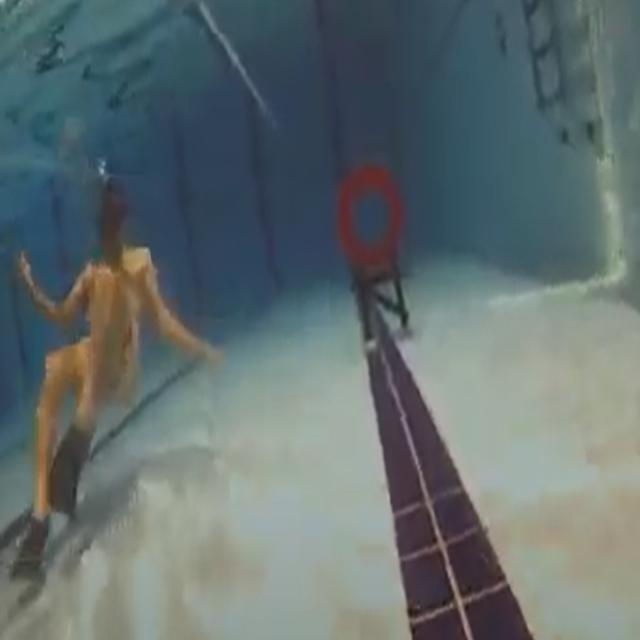Circle: (334, 162, 408, 266)
